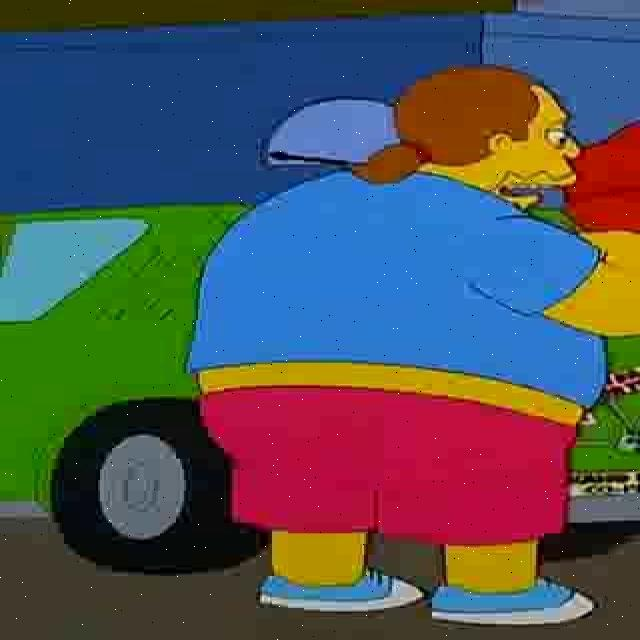Comic Book Guy: (379, 62, 589, 222)
